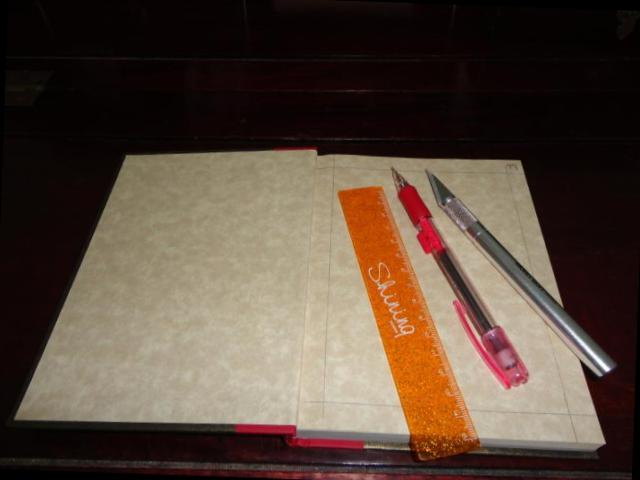PEN: (405, 166, 634, 390), (363, 164, 542, 401)
